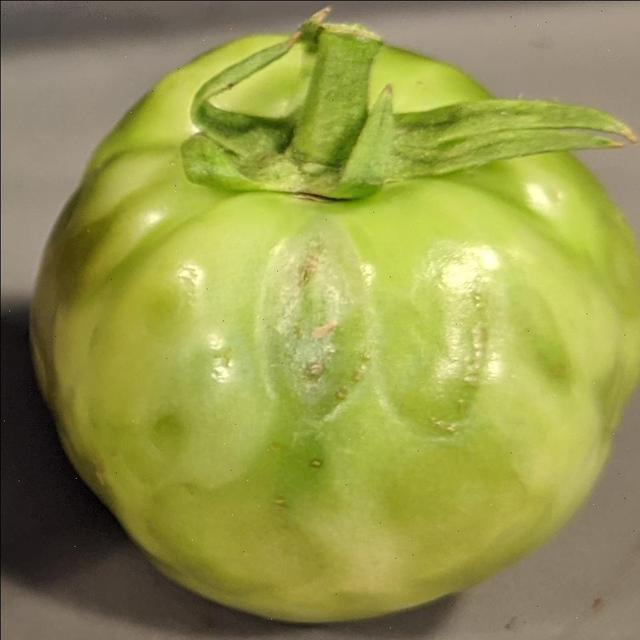Spotted wilt Virus Fruit: (214, 89, 639, 253)
